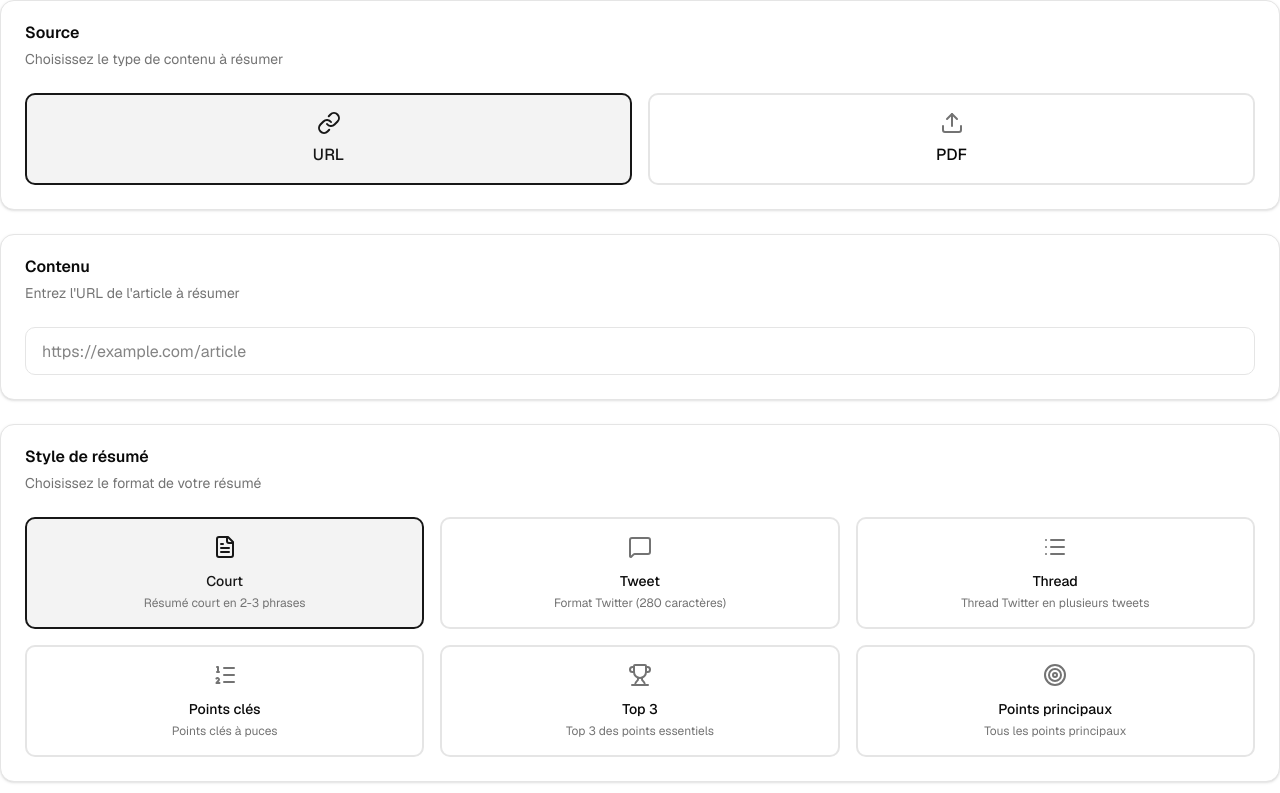
SummaryForm › should show file input when PDF source is selected
Note: Click on PDF tab
Click the button "PDF" at [951, 154], box 648,93 -> 1255,185
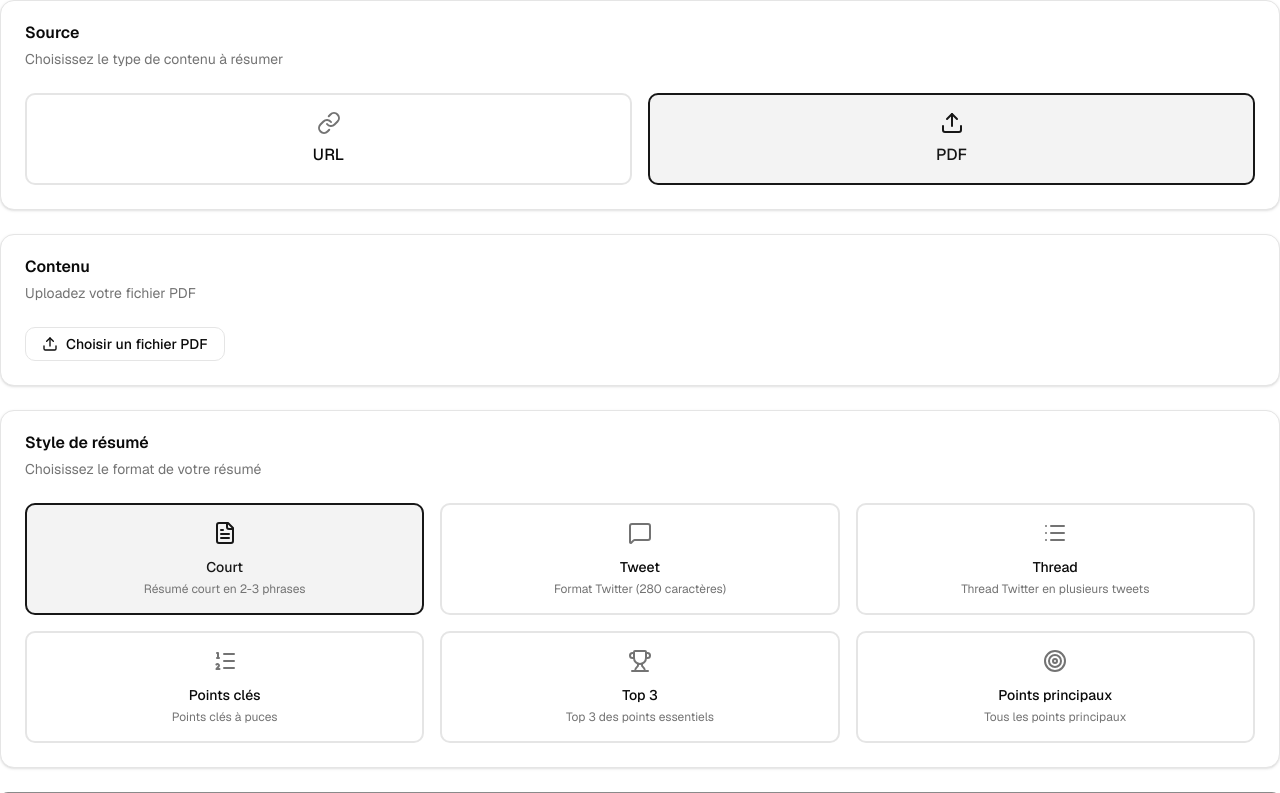
Expected: the file field labelled "Choisir un fichier PDF" is shown, 25,327 -> 225,361
